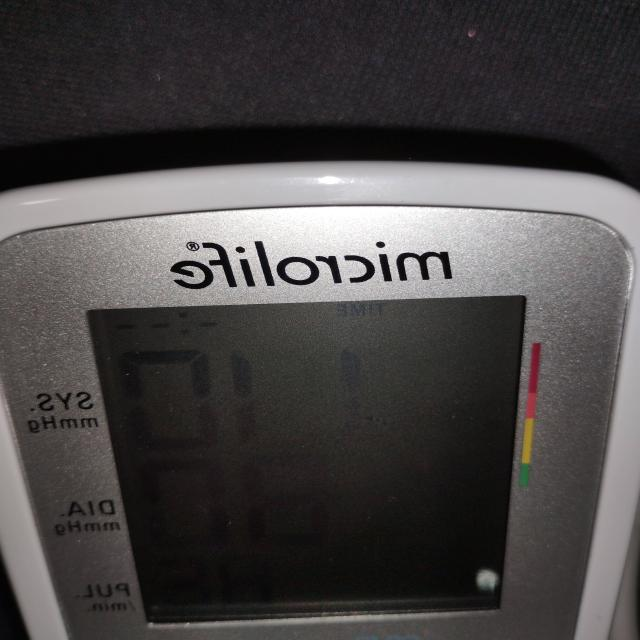bp: (0, 126, 640, 640)
